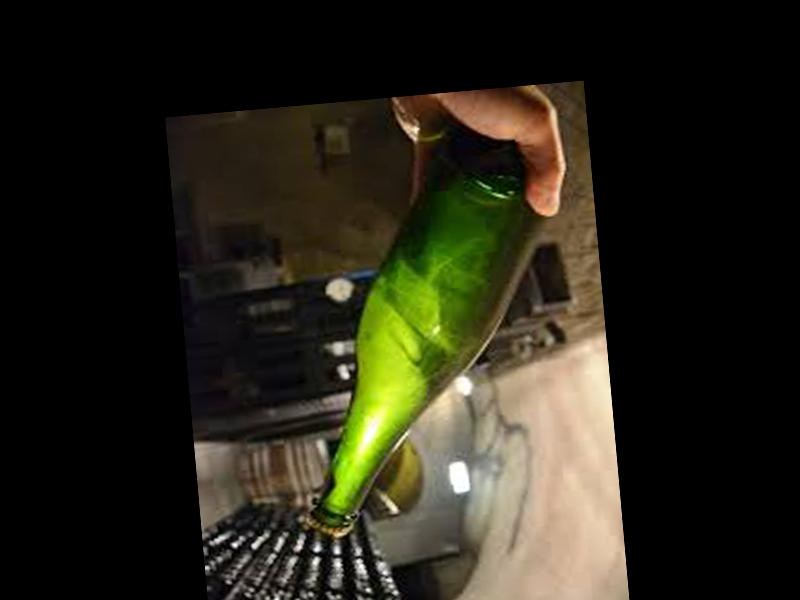Beer: (268, 122, 582, 541)
